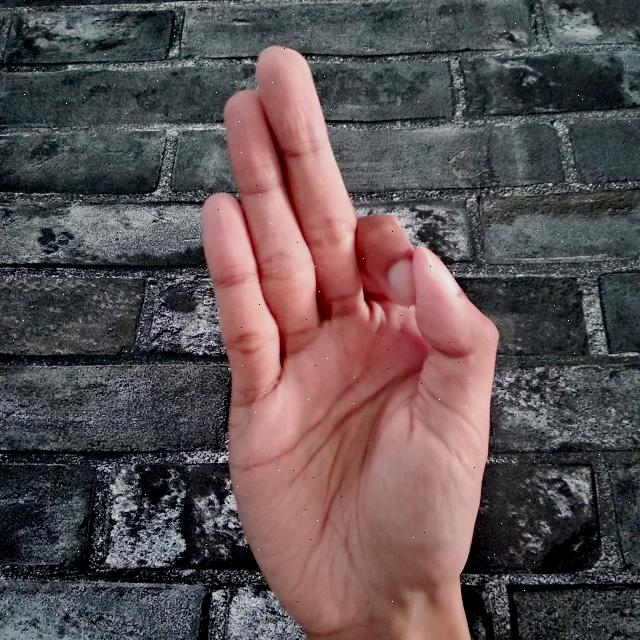F: (203, 45, 510, 640)
